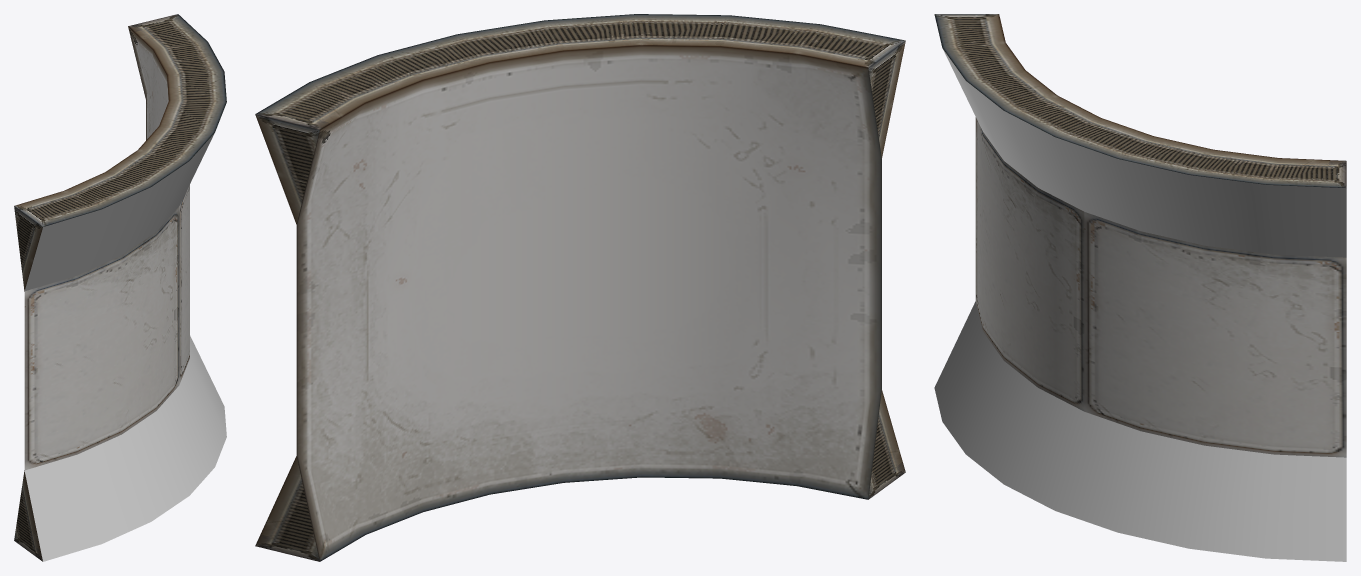
File: scifi_wall_curve1_10.FBX
3 renders of one model, left to right at view 1: azimuth 30°, elevation 25°; view 2: azimuth 150°, elevation 25°; view 3: azimuth 270°, elevation 25°, orthographic. The views are drawn at different scales.
Parts seen in each view (by area): view 1: Plane181; view 2: Plane181; view 3: Plane181.
Boxes of the visible parts, x1=… form: Plane181: x1=14, y1=14, x2=226, y2=561; Plane181: x1=255, y1=14, x2=905, y2=561; Plane181: x1=934, y1=14, x2=1346, y2=561.
Bounding box in the file's own units: 254 × 254 × 254.
